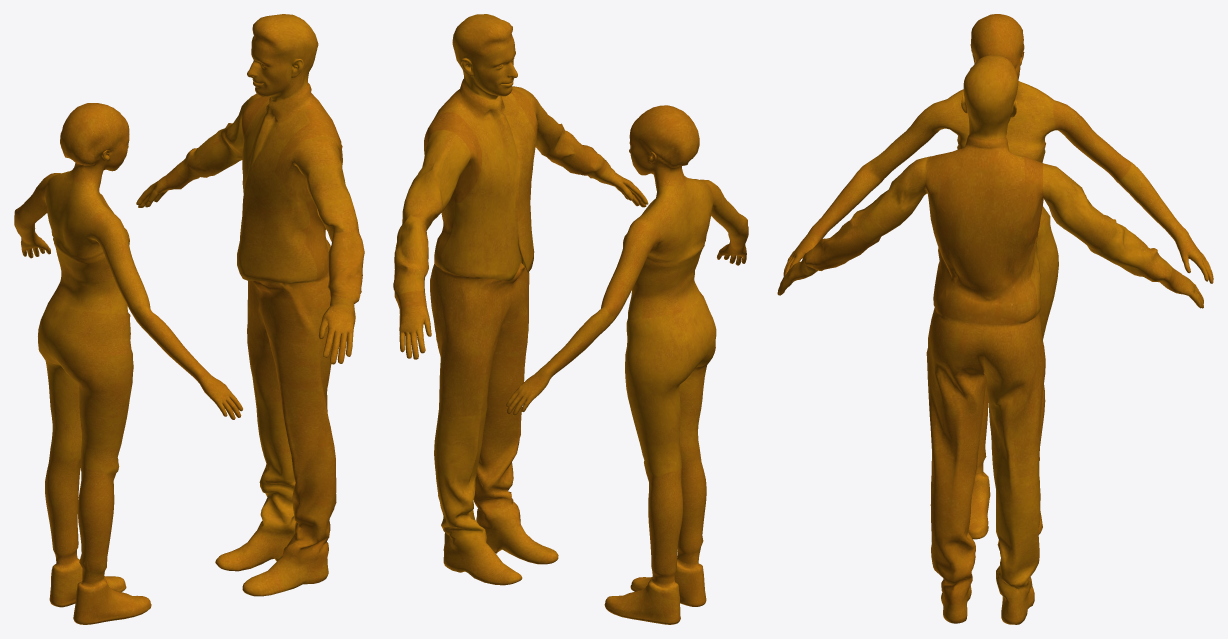
Rendered from guys2.gltf.
3 renders of one model, left to right at view 1: azimuth 30°, elevation 25°; view 2: azimuth 150°, elevation 25°; view 3: azimuth 270°, elevation 25°, orthographic.
Parts seen in each view (by area): view 1: rp_eric_rigged_001_geo, rp_alison_rigged_001_geo.002; view 2: rp_eric_rigged_001_geo, rp_alison_rigged_001_geo.002; view 3: rp_eric_rigged_001_geo, rp_alison_rigged_001_geo.002.
Boxes of the visible parts, box(x1,y1,x2,y2) form: rp_eric_rigged_001_geo: box(136, 14, 364, 596); rp_alison_rigged_001_geo.002: box(14, 103, 242, 624); rp_eric_rigged_001_geo: box(393, 14, 648, 585); rp_alison_rigged_001_geo.002: box(506, 105, 748, 624); rp_eric_rigged_001_geo: box(777, 55, 1203, 624); rp_alison_rigged_001_geo.002: box(783, 14, 1213, 539).
Bounding box in the file's own units: 97.29 × 186 × 134.
Materials: 2 (2 with a texture image).
